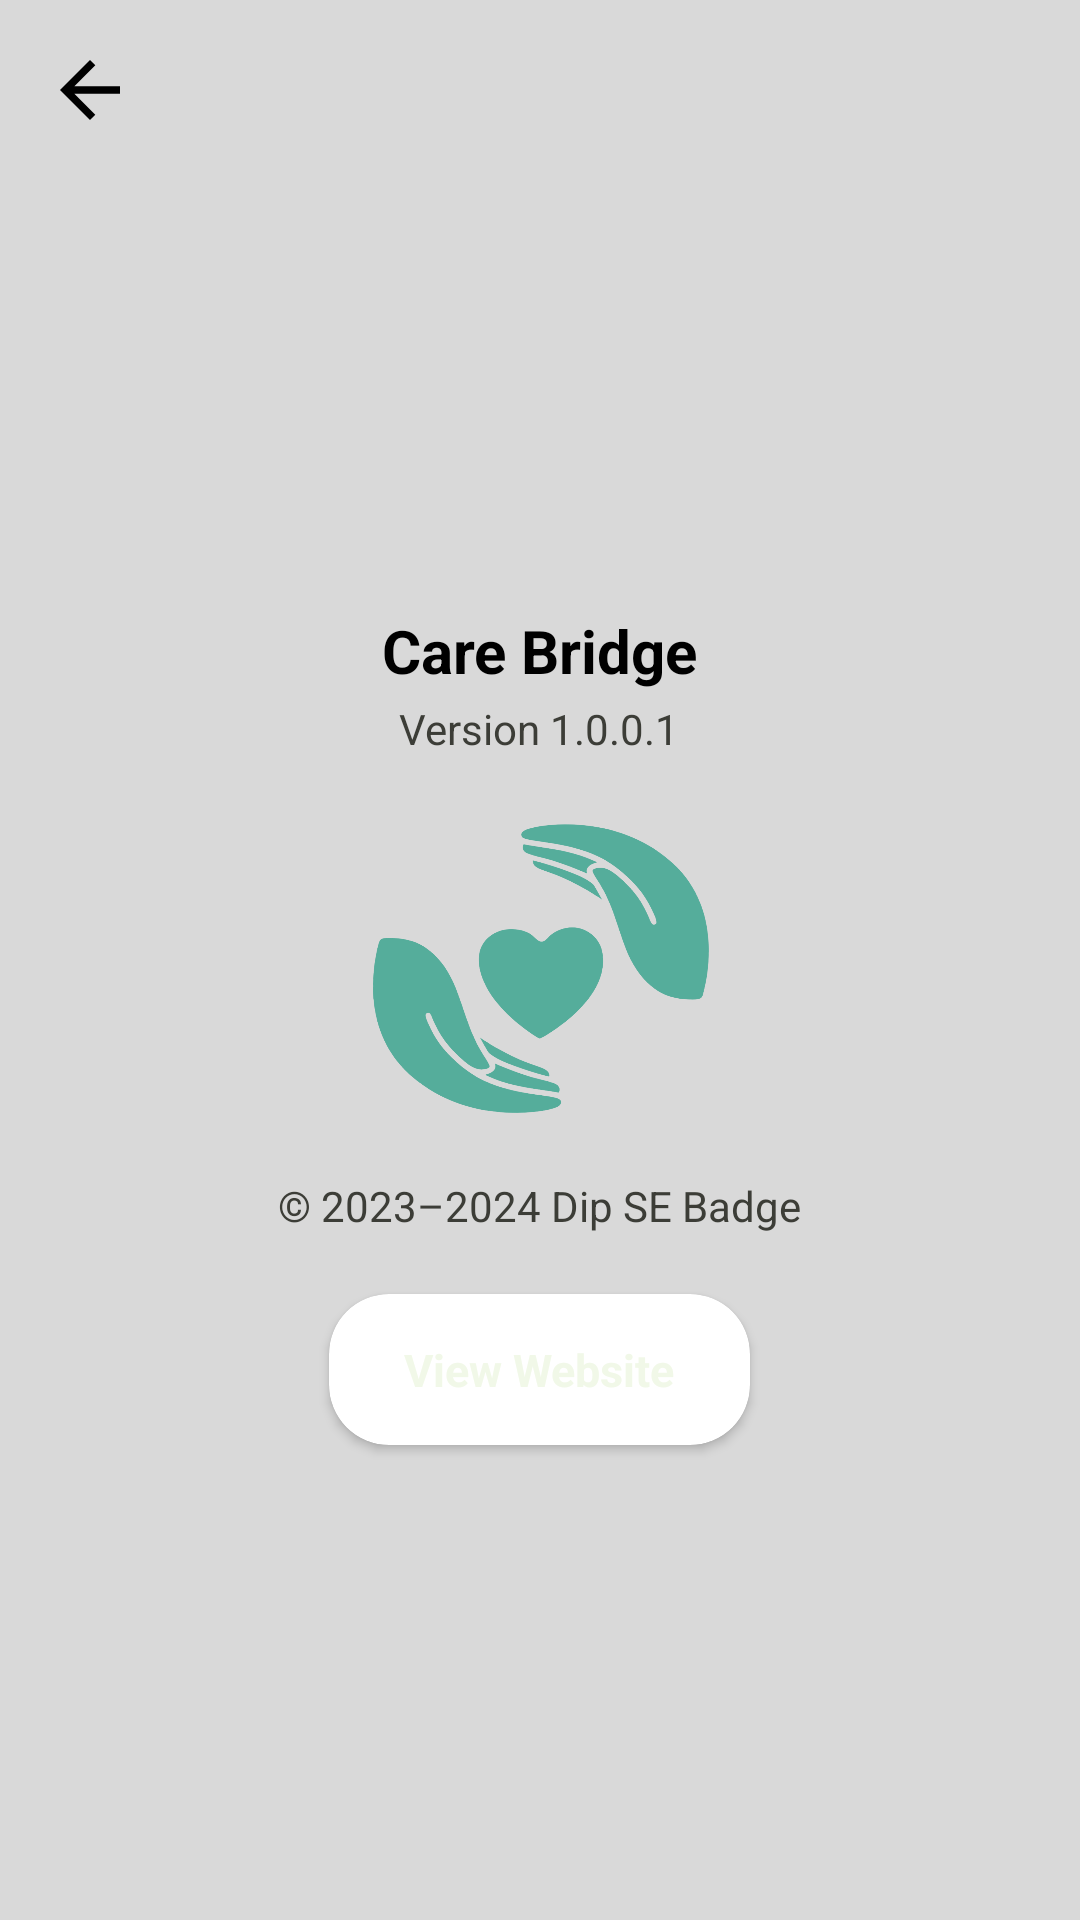

Icon click points for this 1080 × 1920 phone screenshot, format (x=x, y=y):
Back arrow description: (x=90, y=90)
